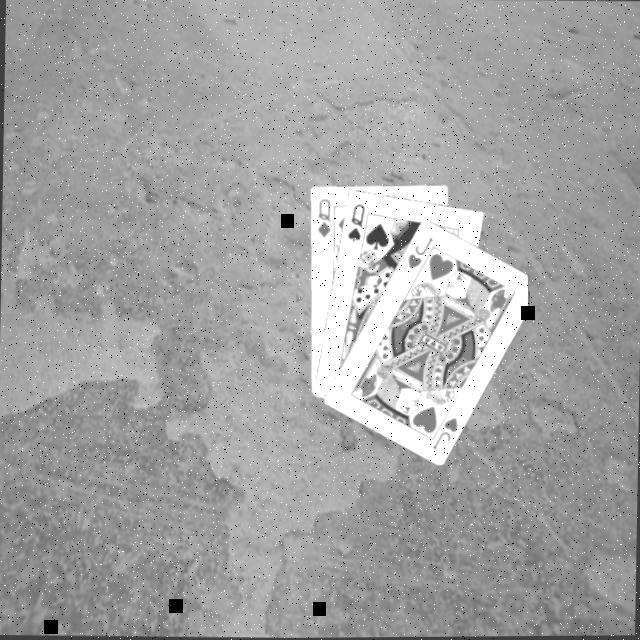JH: (402, 232, 435, 272), (426, 412, 459, 452)
QD: (312, 195, 333, 239)
QS: (342, 200, 367, 243)
